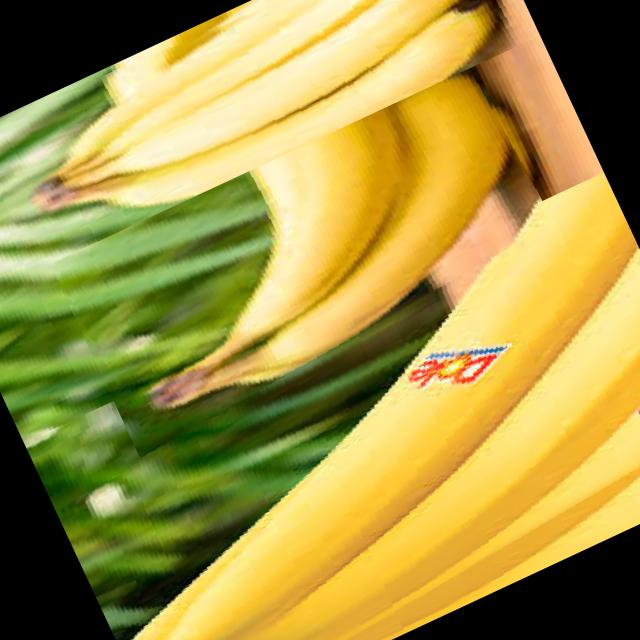Organic: (23, 171, 640, 640), (39, 41, 570, 457), (0, 0, 540, 269)
